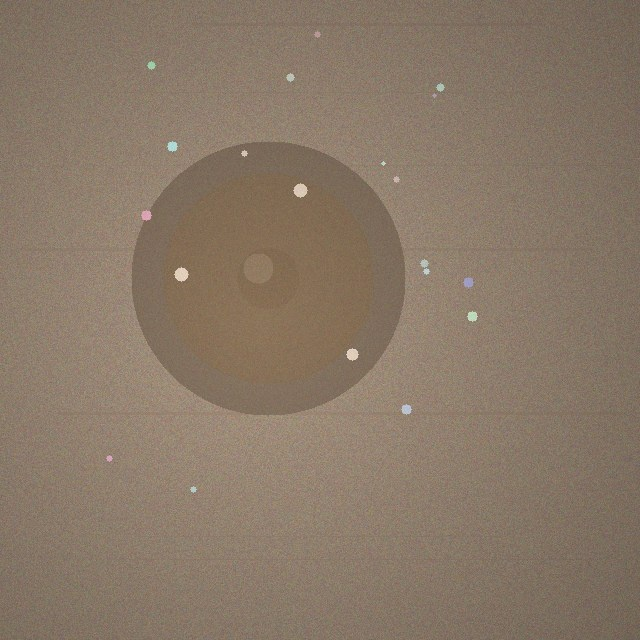overburn: (131, 141, 405, 415)
